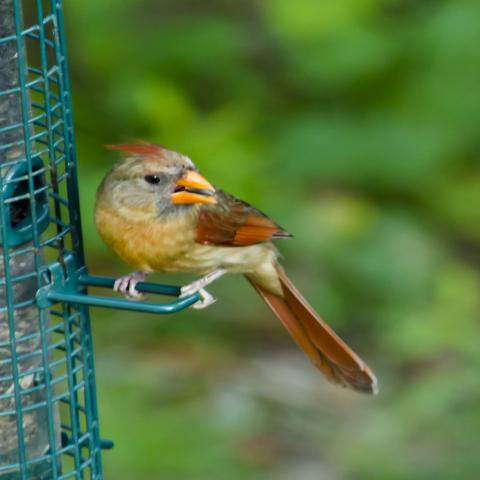bird: (92, 134, 380, 397)
